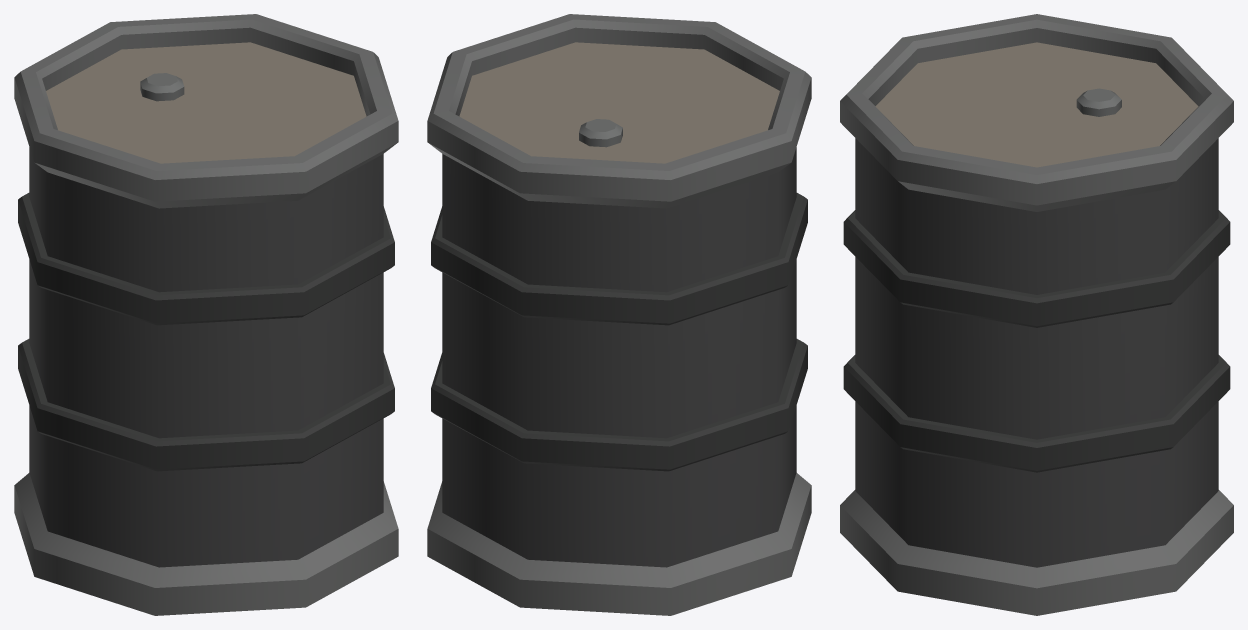
Rendered from Barrel_1_5.glb.
3 views of the same model, side by side, from view 1: azimuth 30°, elevation 25°; view 2: azimuth 150°, elevation 25°; view 3: azimuth 270°, elevation 25° (orthographic).
Parts seen in each view (by area): view 1: Barrel_1_5; view 2: Barrel_1_5; view 3: Barrel_1_5.
Boxes of the visible parts, x1,y1,x2,y2 form: Barrel_1_5: (14, 14, 398, 615); Barrel_1_5: (427, 14, 811, 615); Barrel_1_5: (840, 14, 1233, 615).
Size of the model in its own units: 0.6748 by 0.83 by 0.6748.
2 materials, 2 textured.
